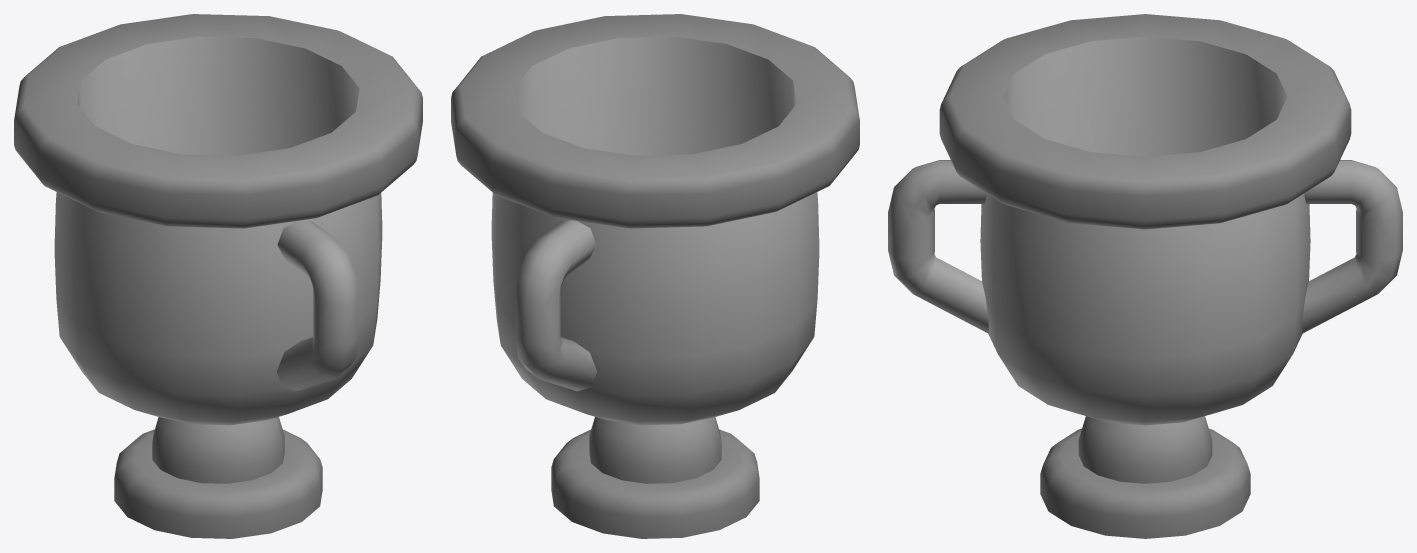
File: Cup_V1_00.fbx
3 renders of one model, left to right at view 1: azimuth 30°, elevation 25°; view 2: azimuth 150°, elevation 25°; view 3: azimuth 270°, elevation 25°, orthographic.
Parts seen in each view (by area): view 1: Cup_V1_00; view 2: Cup_V1_00; view 3: Cup_V1_00.
Part boxes in pixels (x1,y1,x2,y2): Cup_V1_00: [14, 14, 422, 538]; Cup_V1_00: [451, 14, 859, 538]; Cup_V1_00: [888, 14, 1402, 538].
Size of the model in its own units: 37.46 by 39.97 by 46.85.
